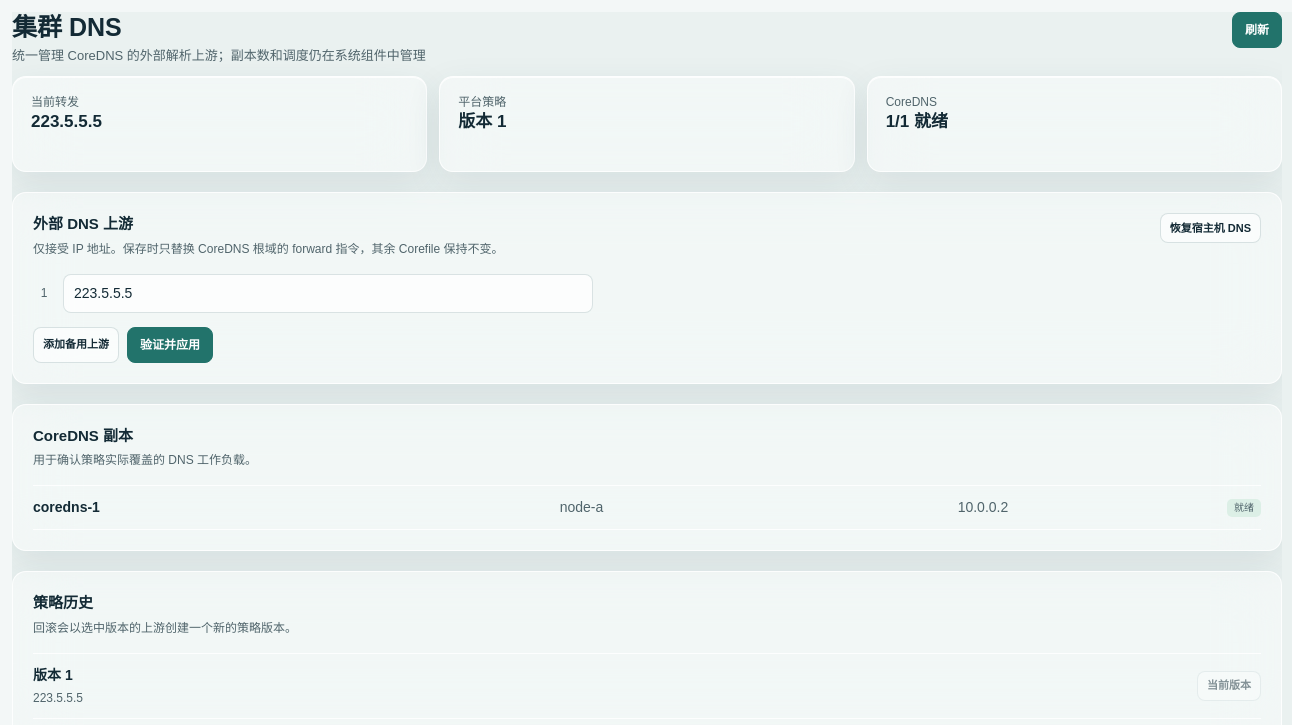
ClusterDNS view › retains the last successful data after a failed refresh
Click the button "刷新". click: (1257,30)
box: [1232, 12, 1282, 48]
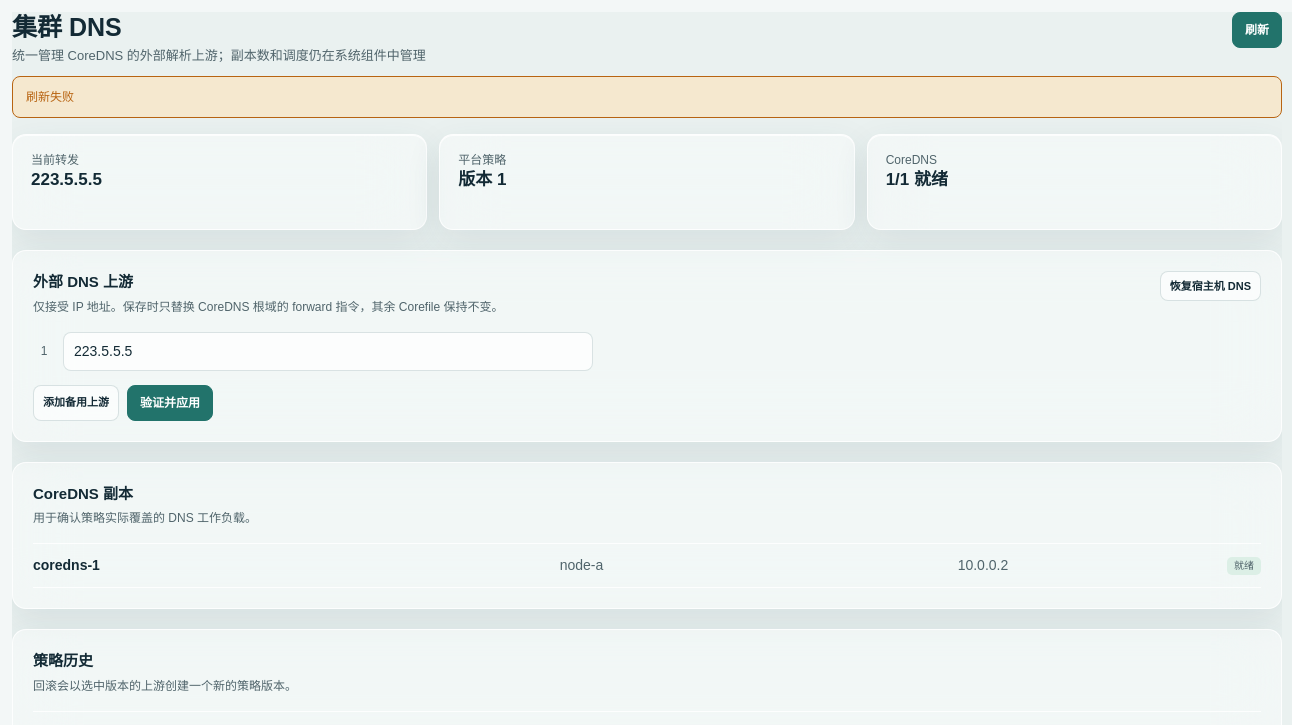
Expected: the text "223.5.5.5" is shown, [31, 170, 102, 189]
Expected: the text "刷新失败" is shown, [26, 88, 74, 106]
